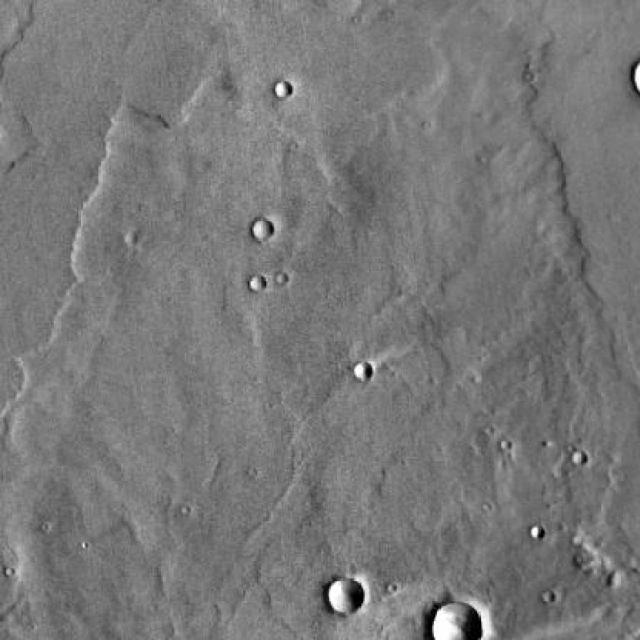crater: (418, 597, 471, 640), (316, 577, 350, 611), (235, 221, 256, 242), (336, 362, 356, 380), (261, 75, 279, 94), (239, 273, 256, 289)
